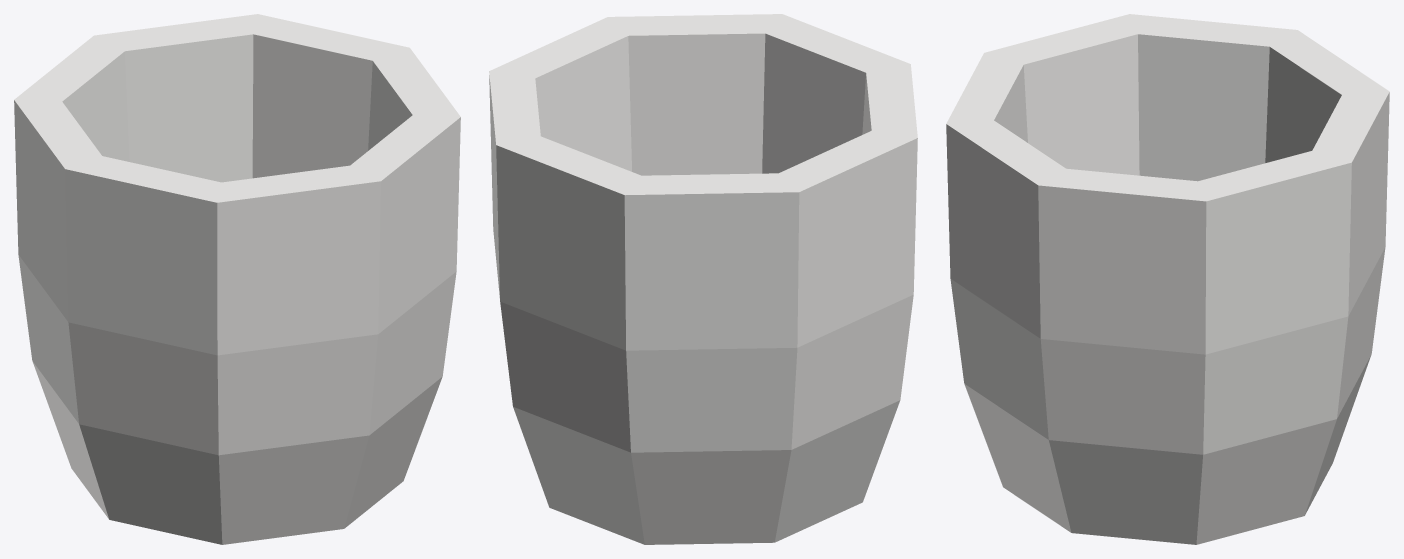
File: Pot_9.fbx
The picture shows the model from 3 angles, left to right: view 1: azimuth 30°, elevation 25°; view 2: azimuth 150°, elevation 25°; view 3: azimuth 270°, elevation 25°; orthographic projection.
Parts seen in each view (by area): view 1: Pot_9; view 2: Pot_9; view 3: Pot_9.
Boxes of the visible parts, x1=… form: Pot_9: x1=14, y1=14, x2=460, y2=544; Pot_9: x1=489, y1=14, x2=917, y2=544; Pot_9: x1=946, y1=14, x2=1389, y2=544.
Size of the model in its own units: 16.47 by 16.47 by 15.06.
